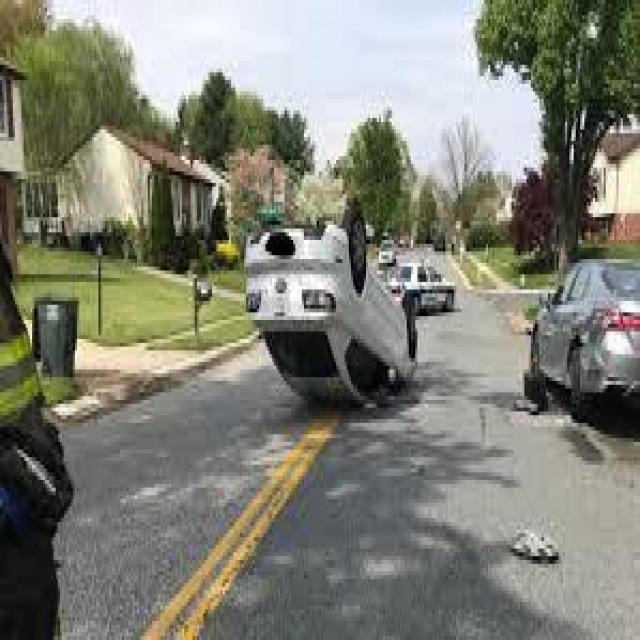accident: (239, 196, 425, 417)
